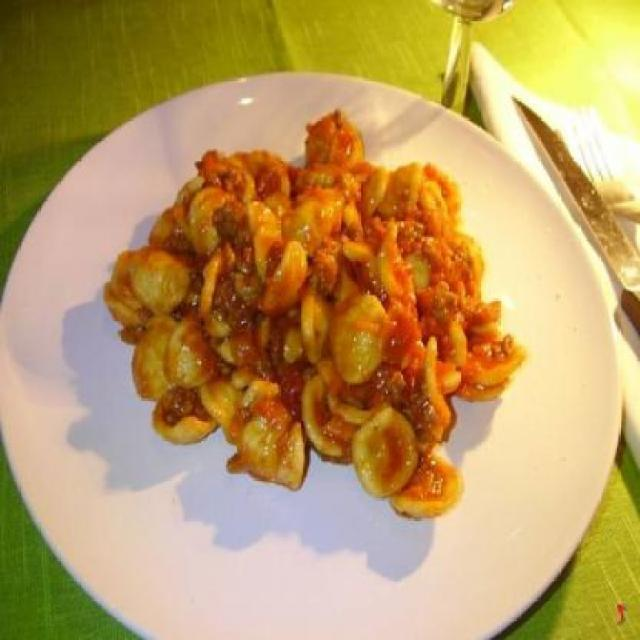Pasta al ragu: (118, 102, 527, 530)
